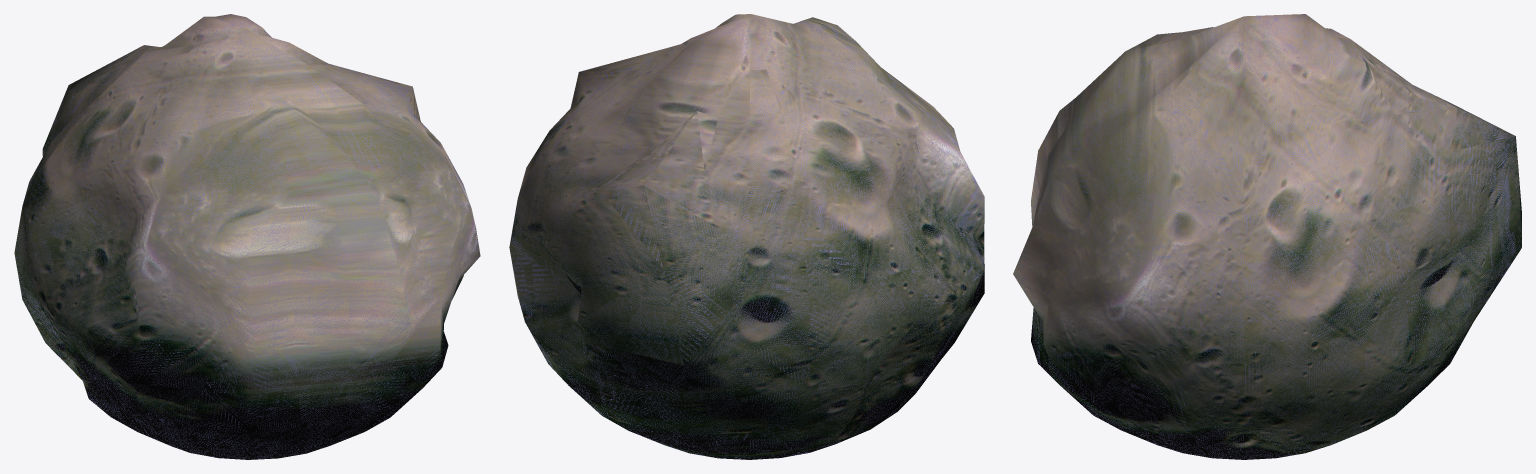
3 renders of one model, left to right at view 1: azimuth 30°, elevation 25°; view 2: azimuth 150°, elevation 25°; view 3: azimuth 270°, elevation 25°, orthographic. The views are drawn at different scales.
Visible parts, largest first — view 1: Deimos; view 2: Deimos; view 3: Deimos.
Boxes of the visible parts, bbox=[...] form: Deimos: bbox=[14, 14, 480, 459]; Deimos: bbox=[509, 14, 984, 459]; Deimos: bbox=[1013, 14, 1521, 459].
Size of the model in its own units: 81.65 by 86.82 by 78.7.
2 materials, 1 textured.
